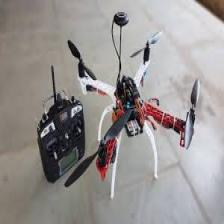drone: (61, 33, 204, 202)
